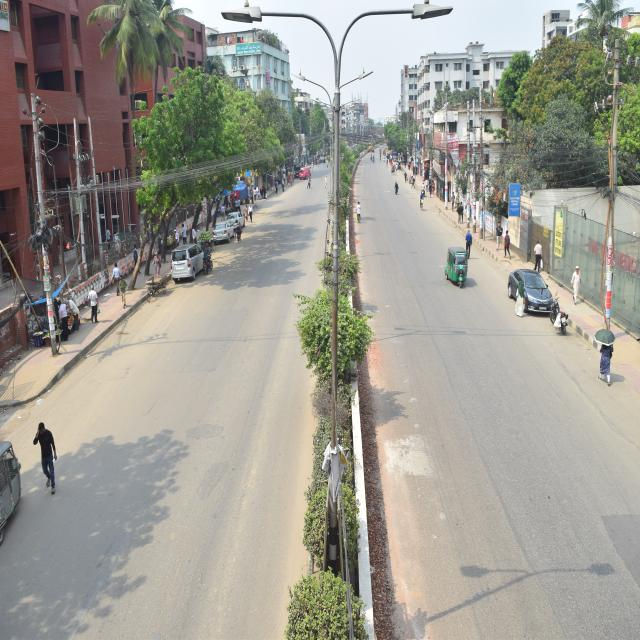car: (508, 259, 554, 319), (208, 219, 233, 247), (226, 208, 247, 239), (298, 164, 311, 182)
microbus: (166, 241, 208, 288)
motorbike: (550, 298, 570, 334), (200, 253, 219, 275)
